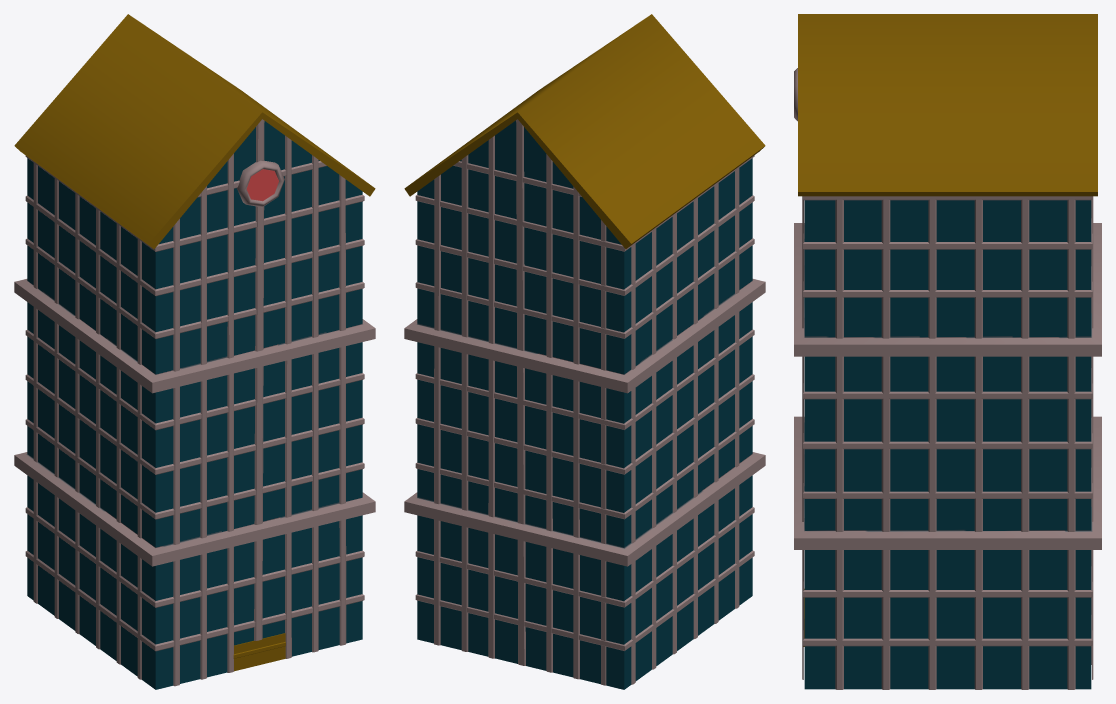
Rendered from Building_Complete.glb.
3 views of the same model, side by side, from view 1: azimuth 30°, elevation 25°; view 2: azimuth 150°, elevation 25°; view 3: azimuth 270°, elevation 25° (orthographic). The views are drawn at different scales.
Visible parts, largest first — view 1: Building_Complete; view 2: Building_Complete; view 3: Building_Complete.
Boxes of the visible parts, x1,y1,x2,y2 form: Building_Complete: [14, 14, 375, 689]; Building_Complete: [404, 14, 765, 689]; Building_Complete: [794, 14, 1101, 689].
Size of the model in its own units: 10.18 by 23.74 by 10.7.
1 material, 1 textured.
